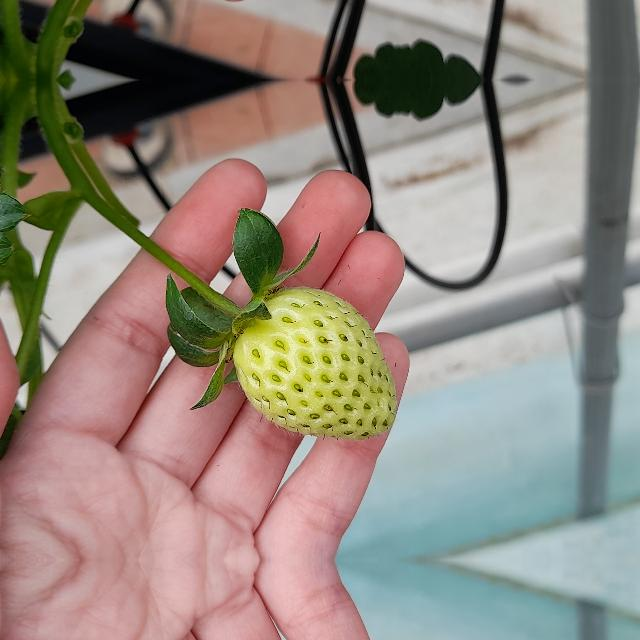Health_25: (232, 286, 396, 439)
